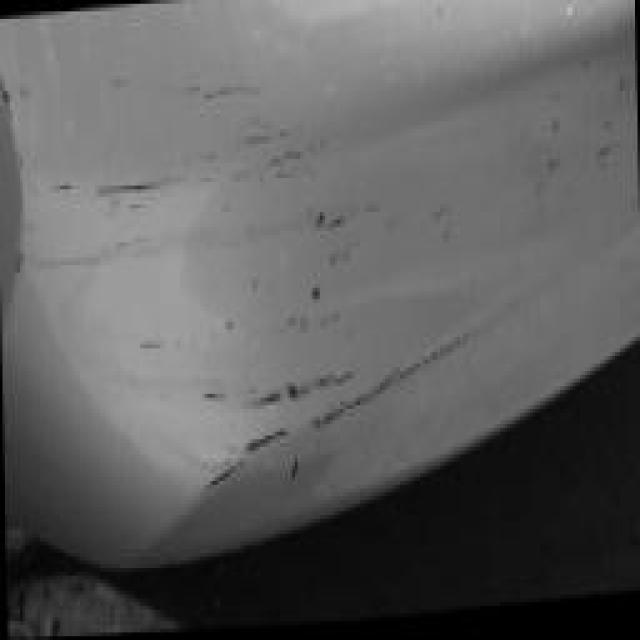Bumper: (0, 0, 628, 515)
